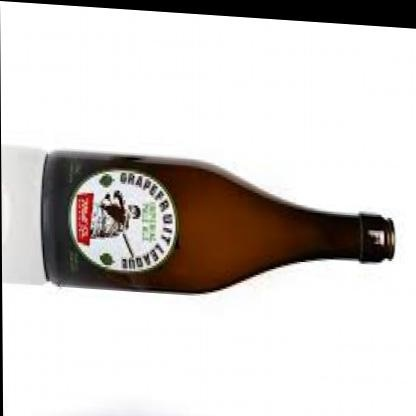trash: (41, 152, 394, 291)
